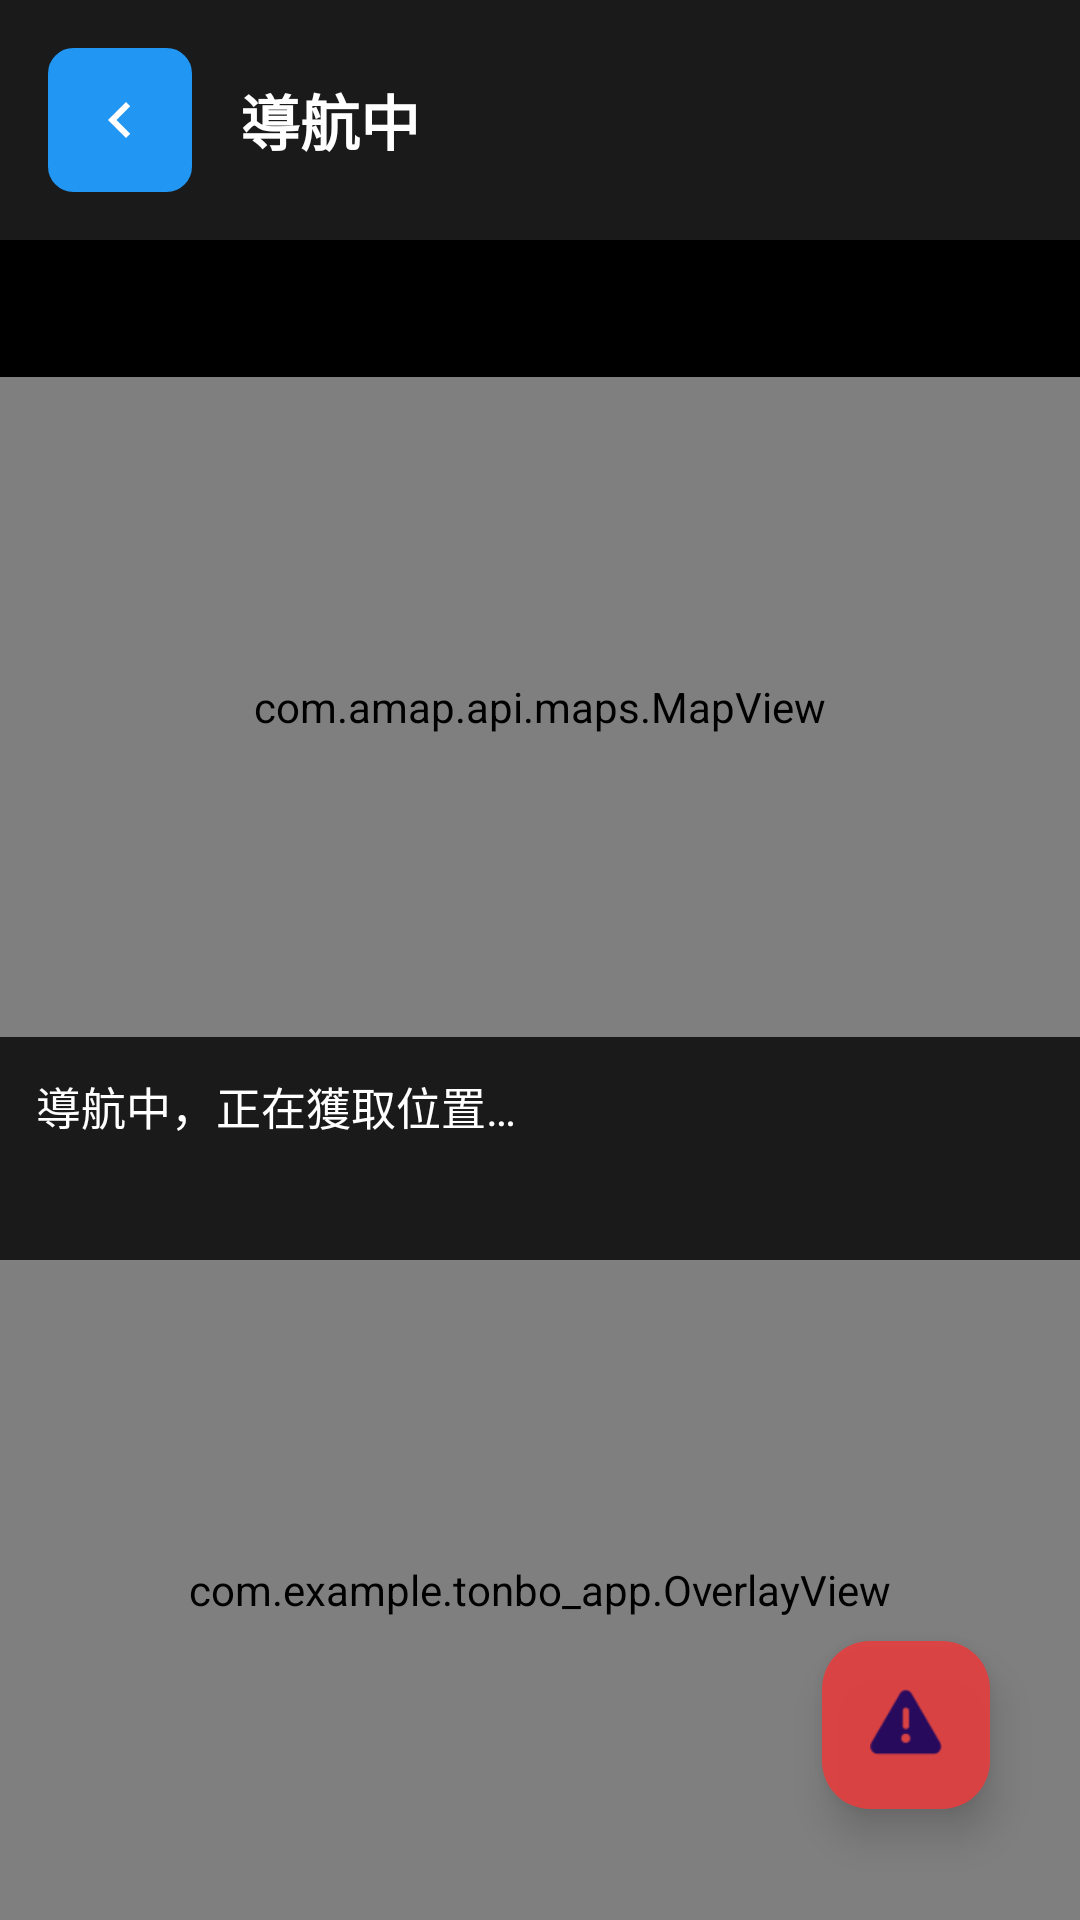

Where to tap for icons on this 1080px x 1920px app screen, as [x,y]:
返回: [120,120]
